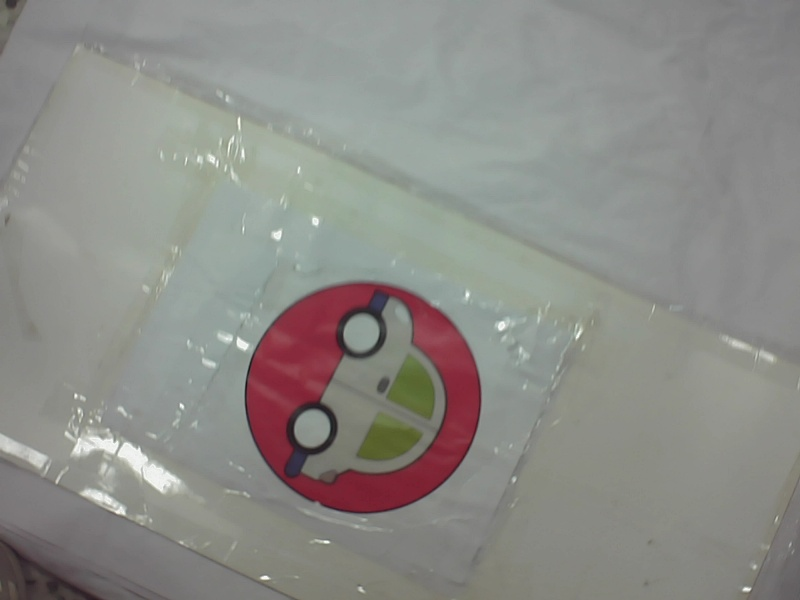areaC: (232, 274, 503, 515)
